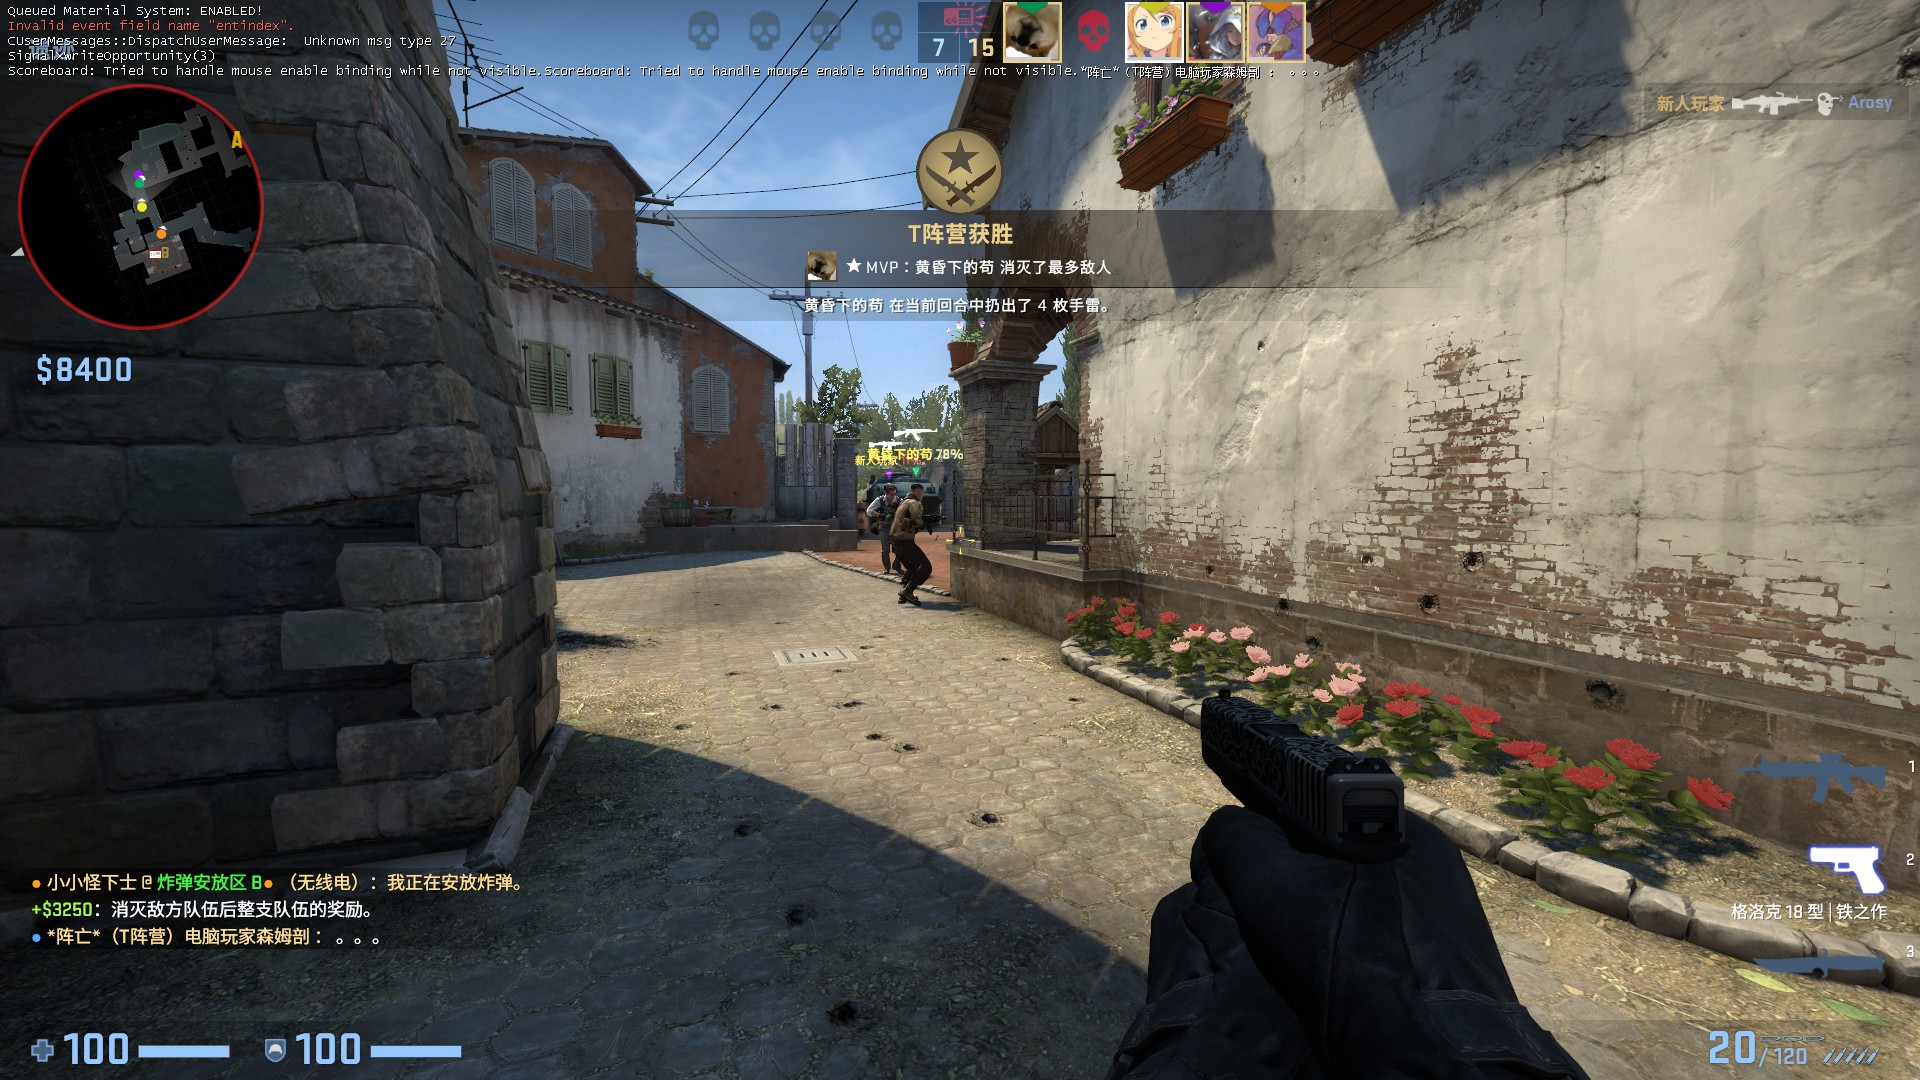head: (907, 482, 923, 500), (881, 482, 897, 500)
